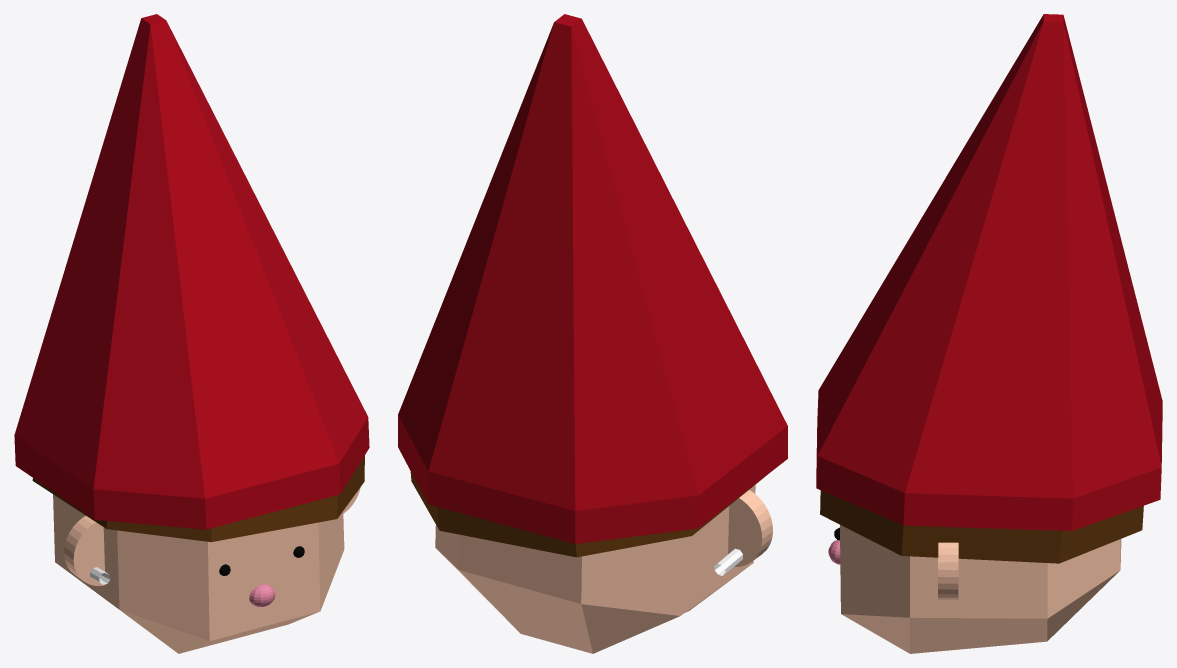
The picture shows the model from 3 angles, left to right: view 1: azimuth 30°, elevation 25°; view 2: azimuth 150°, elevation 25°; view 3: azimuth 270°, elevation 25°; orthographic projection. The views are drawn at different scales.
Visible parts, largest first — view 1: Hat, Head.001, Hair; view 2: Hat, Head.001, Hair; view 3: Hat, Head.001, Hair.
Part boxes in pixels (x1,y1,x2,y2): Hat: (14,14,369,529); Head.001: (53,487,360,653); Hair: (32,455,364,542); Hat: (398,14,787,543); Head.001: (435,485,772,653); Hair: (410,471,767,557); Hat: (816,14,1162,530); Head.001: (840,525,1121,653); Hair: (820,490,1143,563).
Size of the model in its own units: 0.462 by 0.8875 by 0.4605.
